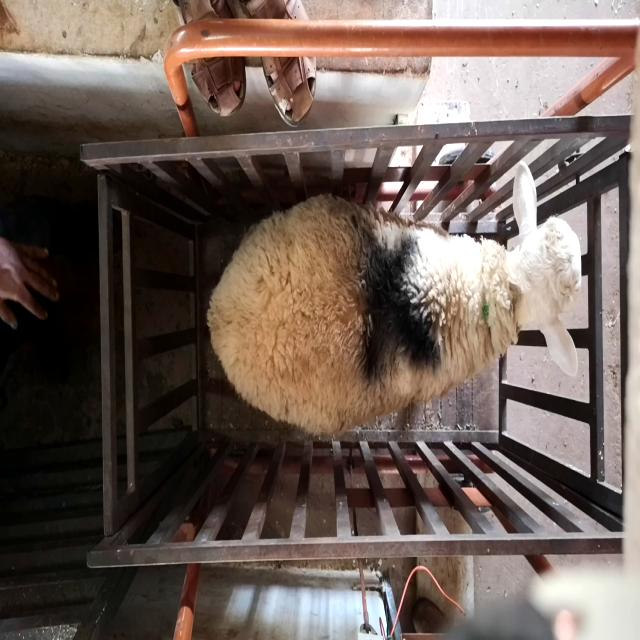sheep: (208, 162, 582, 435)
